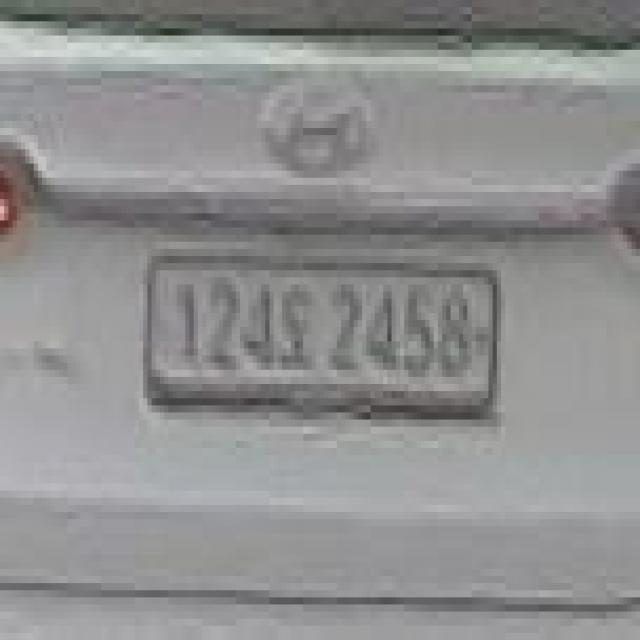illegal_plate: (142, 245, 509, 435)
